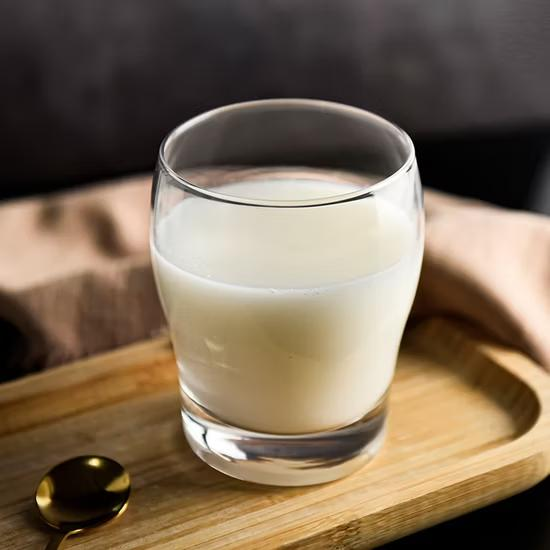produk_susu: (196, 123, 368, 423)
